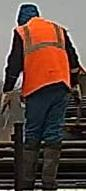gloves: (0, 91, 12, 116), (72, 83, 82, 110)
vest: (14, 16, 72, 98)
